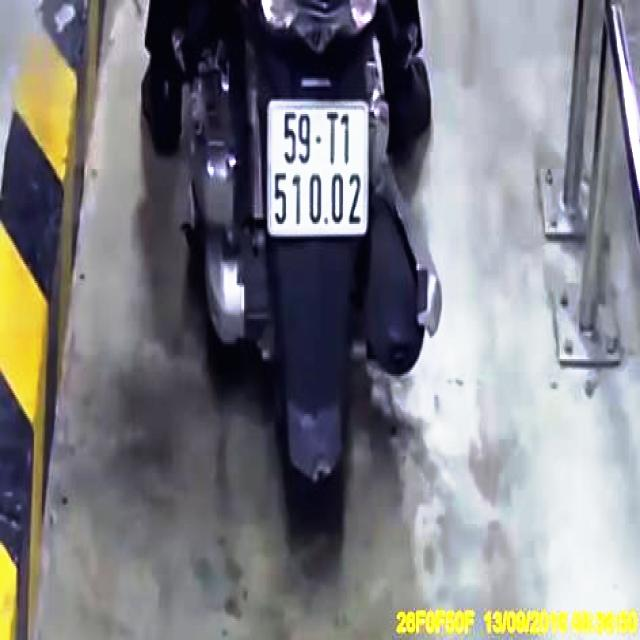license_plate: (269, 102, 370, 235)
